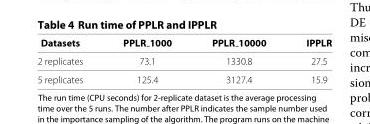table: (36, 36, 331, 84)
table column: (191, 36, 285, 84), (102, 36, 191, 84), (36, 36, 102, 84), (285, 36, 331, 84)
table column header: (36, 36, 331, 51)
table row: (36, 51, 331, 69), (36, 36, 331, 51), (36, 69, 331, 84)
